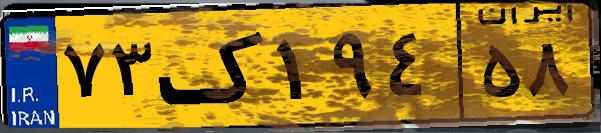1: (270, 28, 330, 110)
3: (110, 28, 158, 98)
4: (385, 28, 445, 110)
5: (475, 38, 525, 113)
7: (57, 26, 110, 100)
8: (525, 38, 570, 115)
9: (330, 28, 385, 110)
ک: (158, 12, 270, 120)
